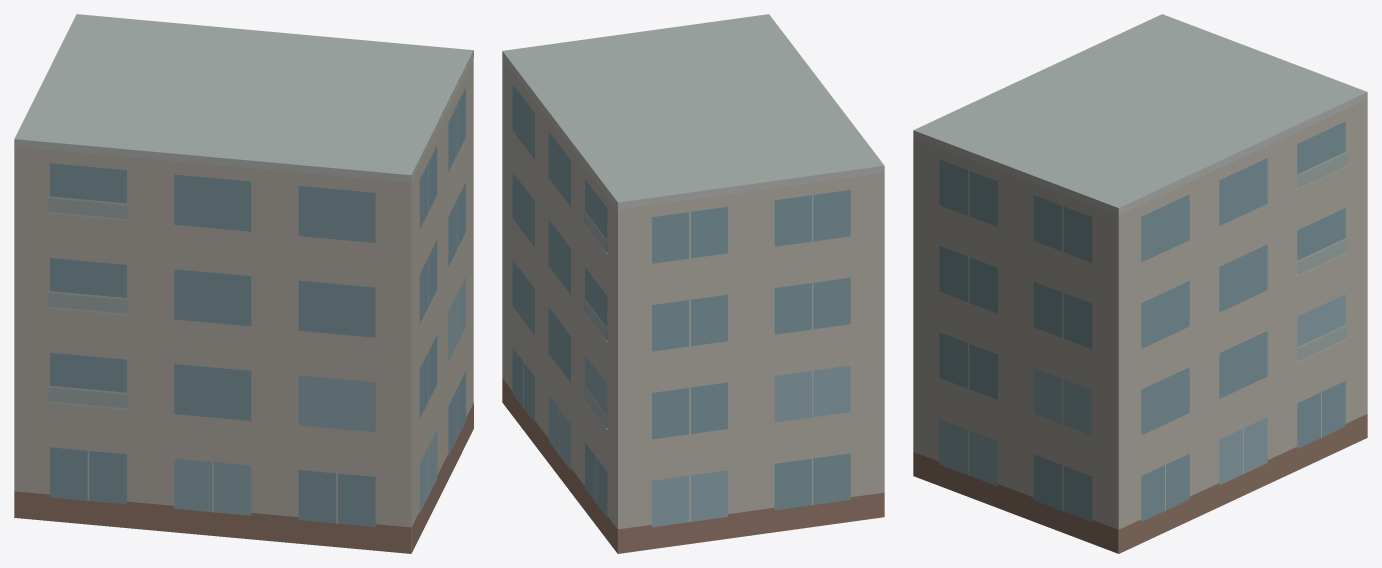
The model's file is survey-upis-32957612.glb.
3 views of the same model, side by side, from view 1: azimuth 30°, elevation 25°; view 2: azimuth 150°, elevation 25°; view 3: azimuth 270°, elevation 25° (orthographic). The views are drawn at different scales.
Visible parts, largest first — view 1: survey-upis-32957612.tmp; view 2: survey-upis-32957612.tmp; view 3: survey-upis-32957612.tmp.
Part boxes in pixels (left/top/right/bottom): survey-upis-32957612.tmp: left=14, top=14, right=473, bottom=553; survey-upis-32957612.tmp: left=502, top=14, right=884, bottom=553; survey-upis-32957612.tmp: left=913, top=14, right=1367, bottom=553.
Bounding box in the file's own units: 14.34 × 11.9 × 14.18.
